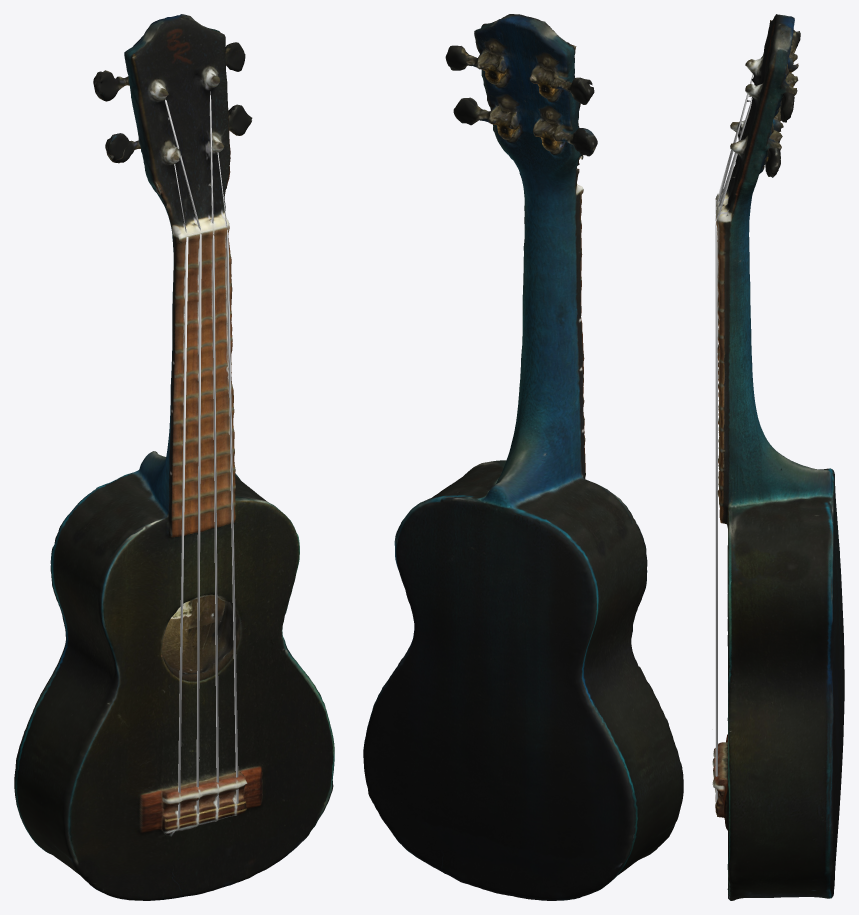
File: guitar_4281970c.glb
3 views of the same model, side by side, from view 1: azimuth 30°, elevation 25°; view 2: azimuth 150°, elevation 25°; view 3: azimuth 270°, elevation 25° (orthographic).
Parts seen in each view (by area): view 1: Object_7, Object_2; view 2: Object_7; view 3: Object_7, Object_2.
Part boxes in pixels (x1,y1,x2,y2): Object_7: (14,14,334,900); Object_2: (177,229,238,818); Object_7: (363,14,683,900); Object_7: (712,14,844,900); Object_2: (715,199,717,802).
Bounding box in the file's own units: 0.8201 × 2.48 × 0.3473.
Materials: 6 (1 with a texture image).
